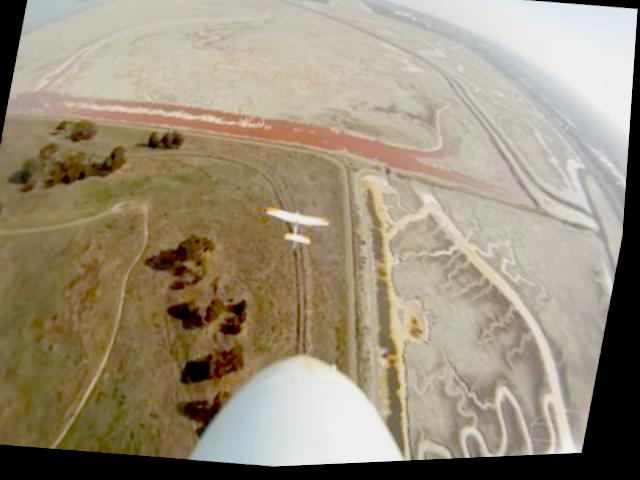uav: (259, 197, 342, 261)
